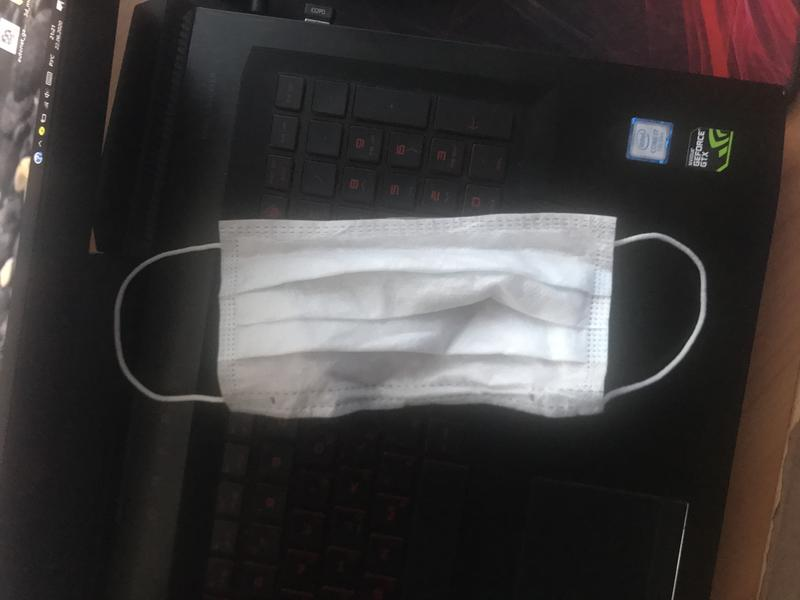medical_mask: (112, 211, 708, 421)
